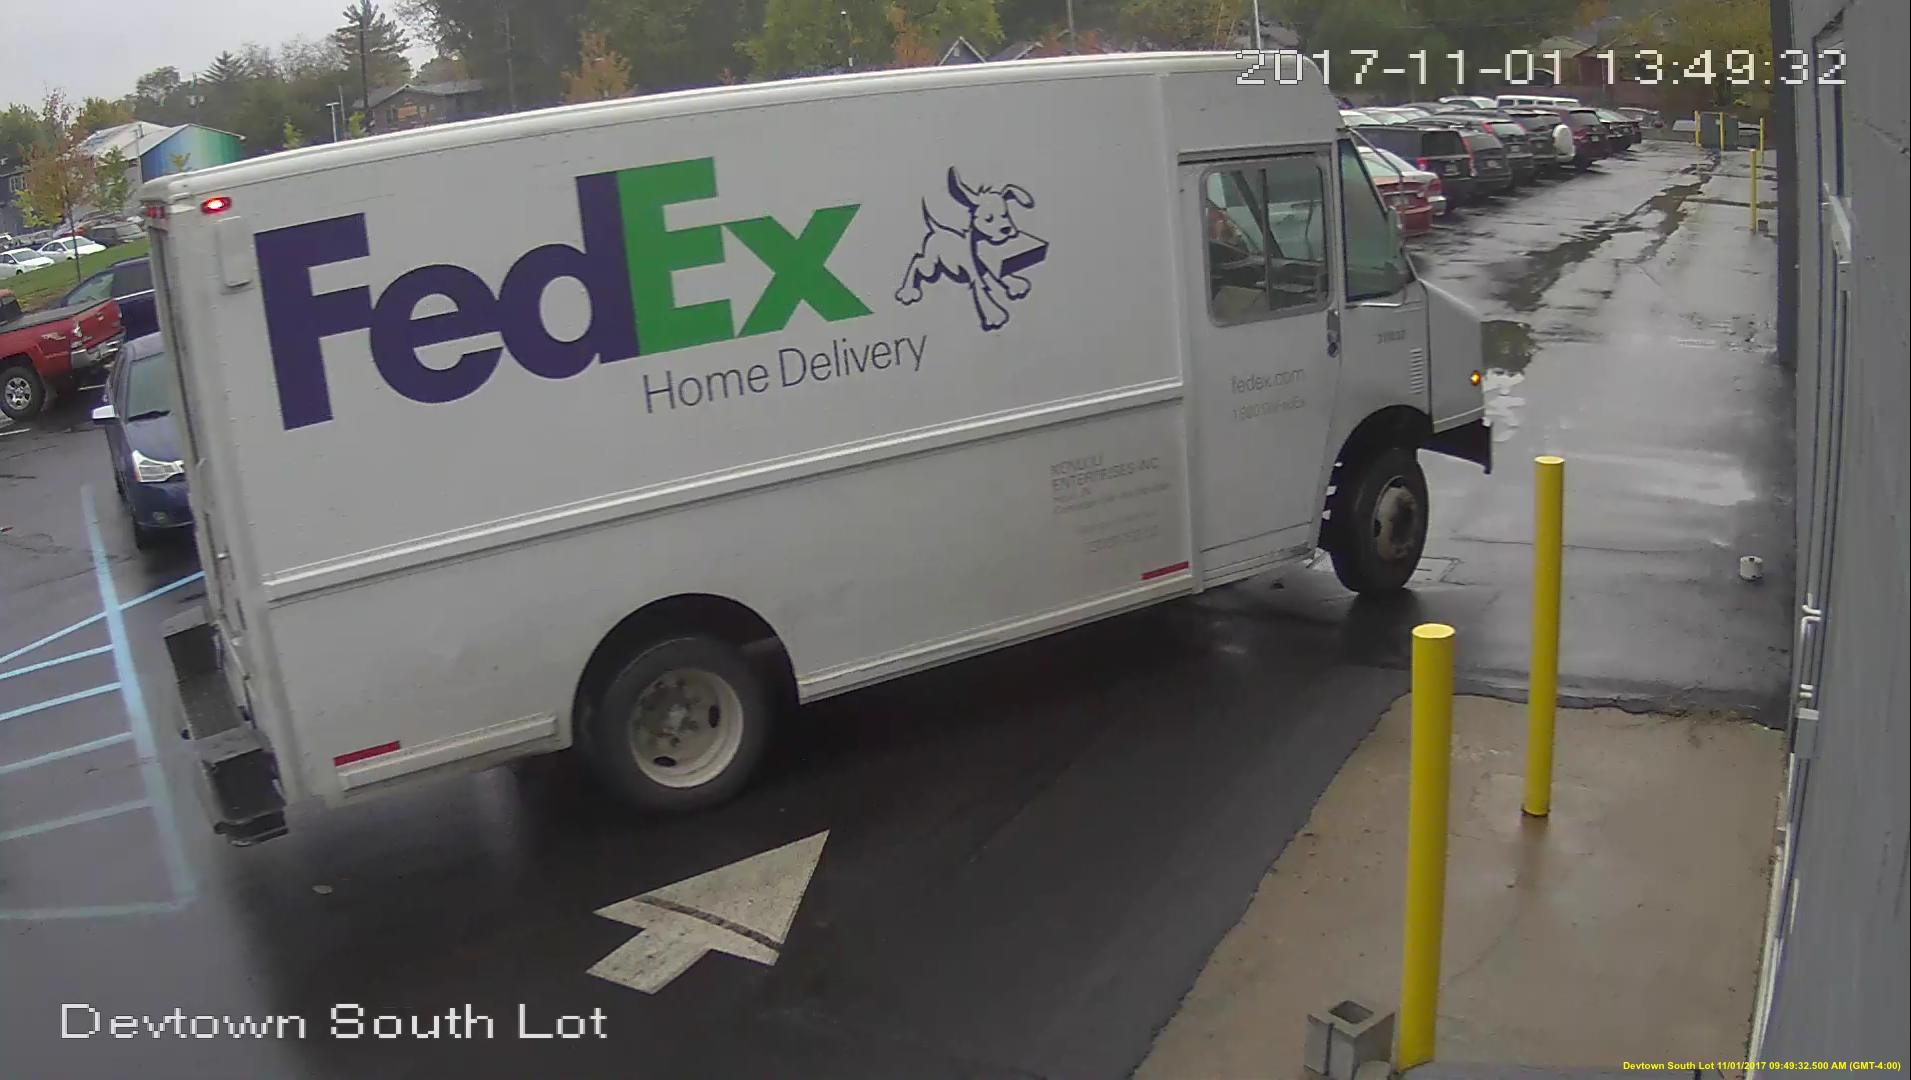fedex_truck: (159, 56, 1494, 850)
